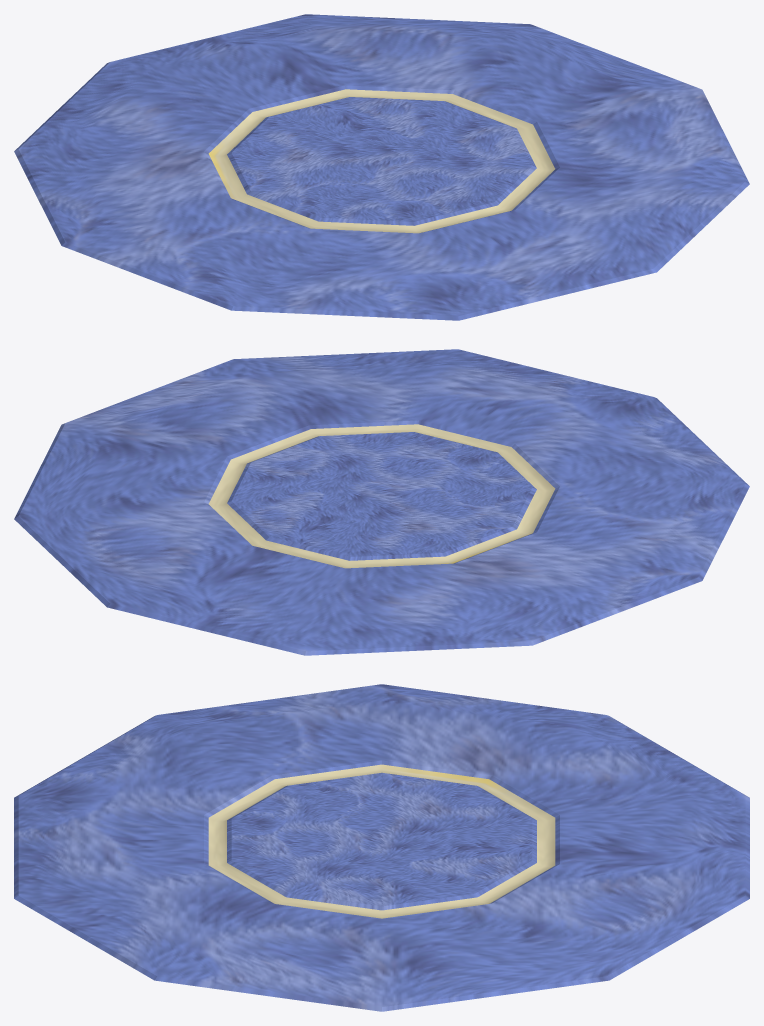
File: Circular_Carpet_09.FBX
3 renders of one model, top to bottom at view 1: azimuth 30°, elevation 25°; view 2: azimuth 150°, elevation 25°; view 3: azimuth 270°, elevation 25°, orthographic. The views are drawn at different scales.
Parts seen in each view (by area): view 1: Circular_Carpet; view 2: Circular_Carpet; view 3: Circular_Carpet.
Part boxes in pixels (<box>): Circular_Carpet: <box>14,14,749,320</box>; Circular_Carpet: <box>14,349,749,655</box>; Circular_Carpet: <box>14,684,749,1011</box>.
Size of the model in its own units: 316 by 4.05 by 300.
